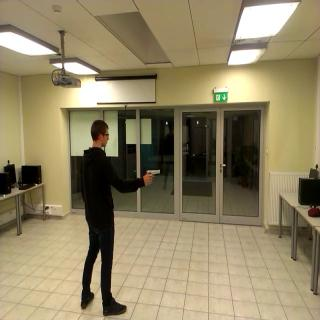gun: (143, 163, 161, 186)
